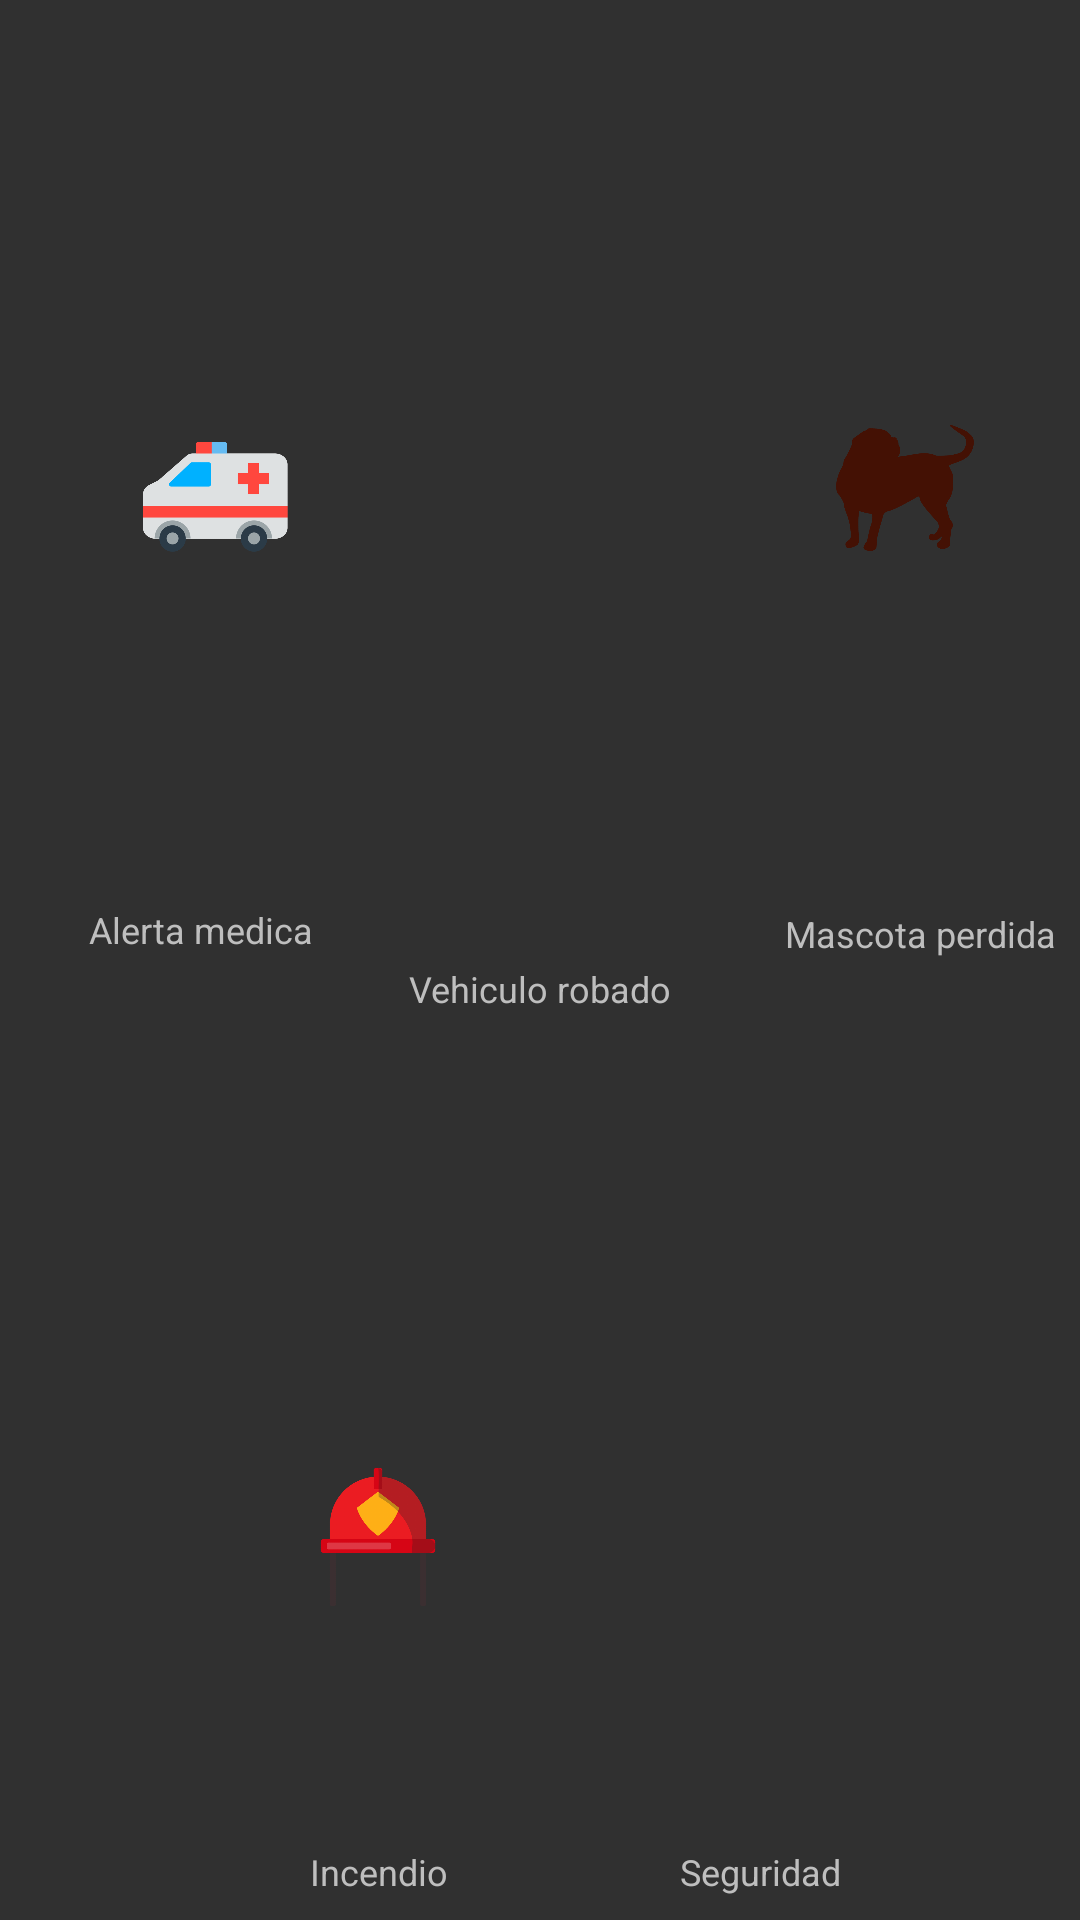

Where icons sit on this 1080w x 1920h app screen, as (x1, y1, x2, y2):
ambulancia: (143, 442, 288, 545)
bomberos: (321, 1468, 435, 1553)
mascota: (836, 425, 974, 551)
